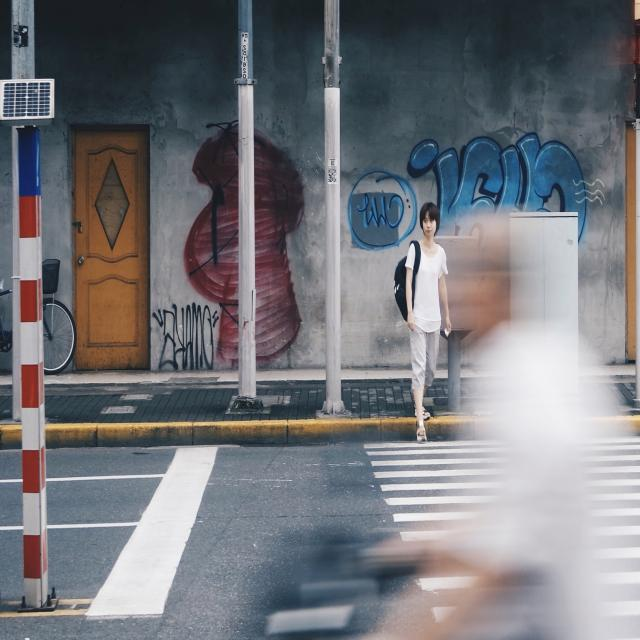adult: (400, 196, 450, 442)
